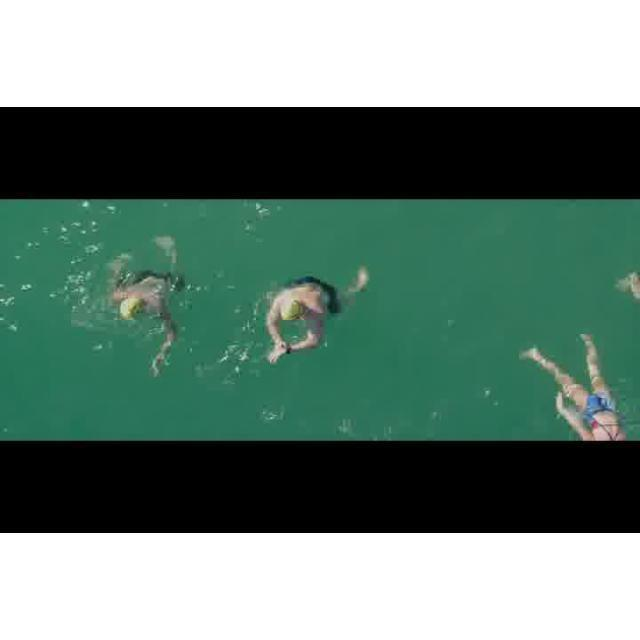human: (263, 256, 371, 376), (521, 333, 636, 441), (106, 236, 183, 377)
